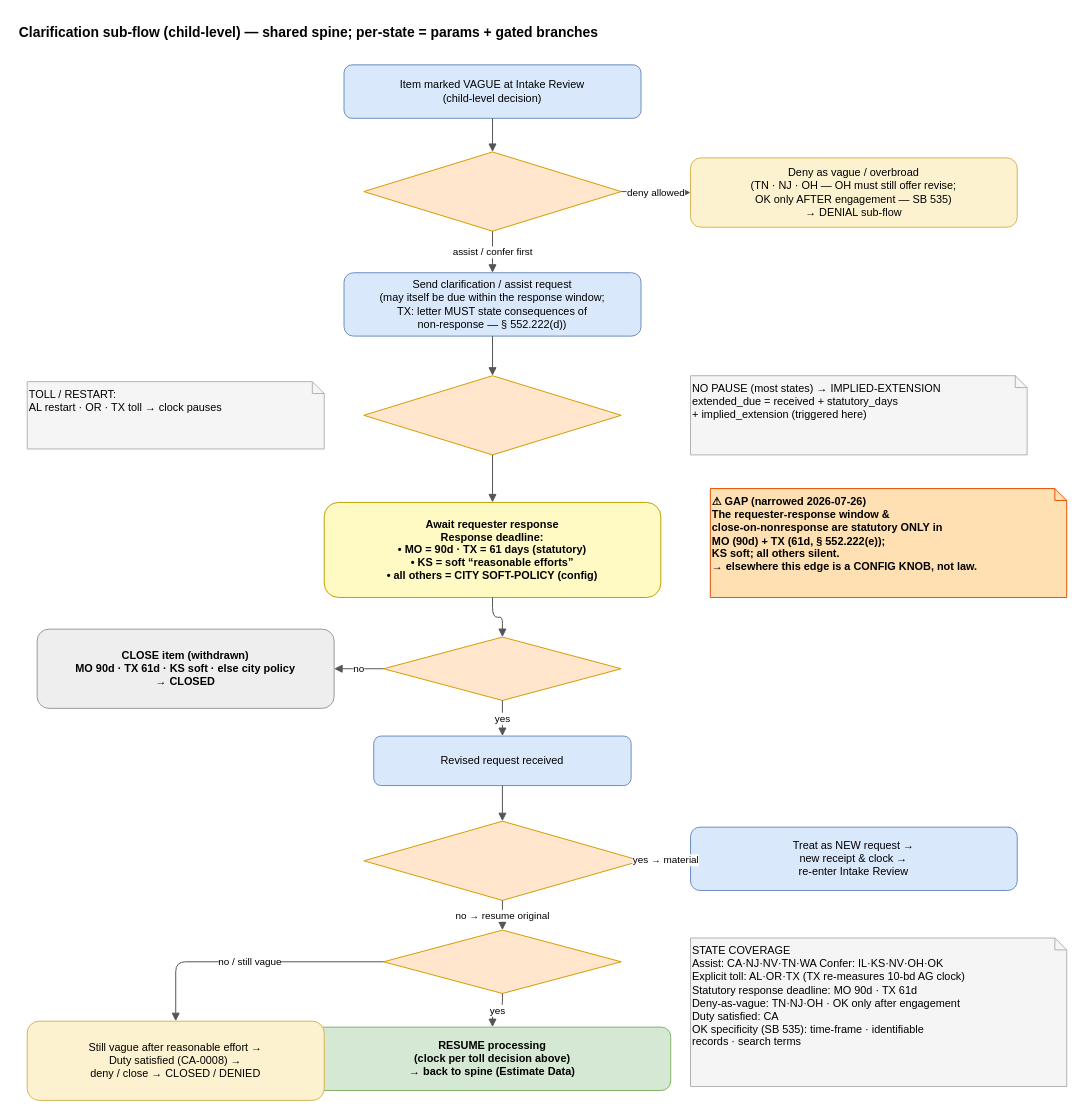
The diagram is 1084 pixels wide and 1118 high, and some of its shapes have lost their labels. The shapes that lost their labels are listed below. From the top down, each one's centre as x and y in pixels, then its label:
At point 492,191: "Assist / confer required before any denial? (state-gated)".
At point 492,415: "Clock effect of sending? (state-gated)".
At point 502,668: "Responded by deadline?".
At point 502,860: "Materially revised? (design / config — no statute)".
At point 502,961: "Reasonably described now?".
